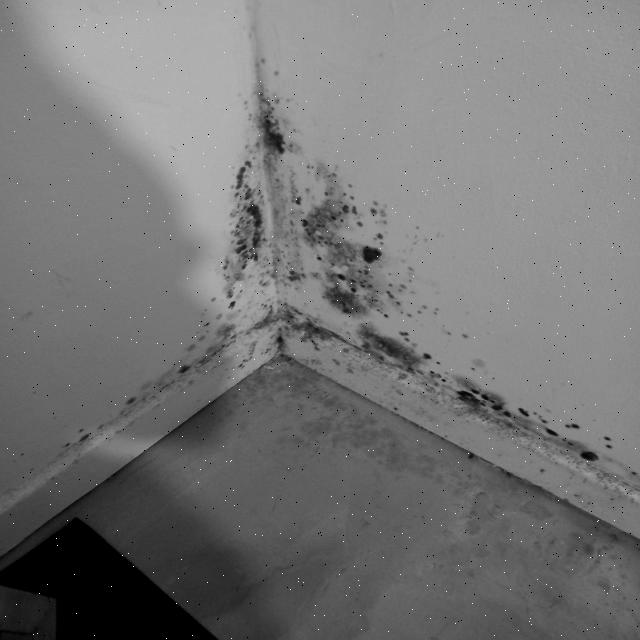stain marks: (363, 291, 640, 510), (254, 15, 394, 352), (42, 283, 266, 479), (197, 145, 295, 295), (226, 74, 312, 168)
